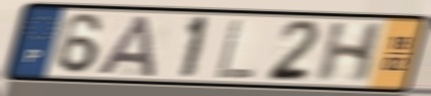1: (176, 14, 210, 81)
2: (267, 18, 324, 83)
6: (54, 11, 106, 77)
A: (95, 13, 158, 79)
H: (313, 21, 388, 84)
L: (213, 16, 259, 81)
